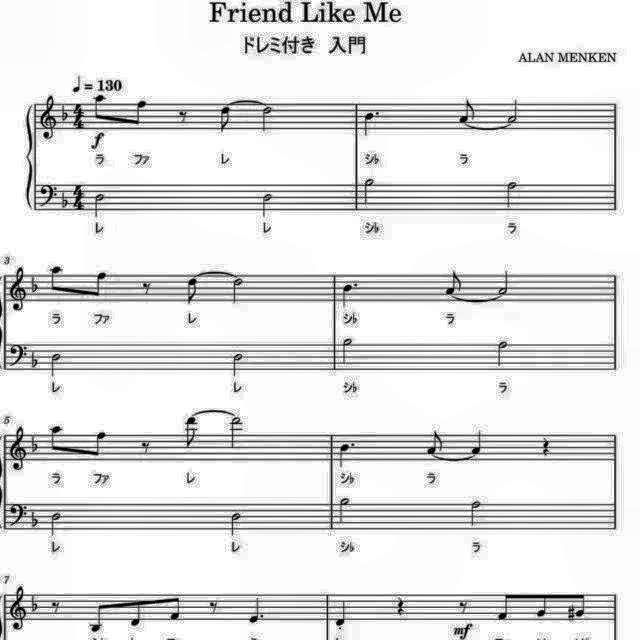Bass-clef: (7, 341, 30, 371), (7, 501, 30, 531), (36, 180, 59, 208)
Bemol: (28, 272, 42, 300), (30, 592, 42, 616), (60, 189, 72, 211), (30, 434, 42, 456), (30, 507, 42, 529), (30, 349, 42, 371), (60, 101, 72, 122)
Eighth-note: (86, 599, 110, 637), (85, 268, 109, 302), (85, 425, 109, 459), (180, 412, 200, 452), (127, 598, 149, 632), (47, 262, 69, 296), (47, 422, 69, 456), (129, 95, 151, 128), (442, 267, 466, 297), (494, 588, 514, 624), (166, 592, 187, 626), (422, 428, 446, 457), (182, 274, 202, 308), (454, 96, 478, 124), (534, 592, 554, 624), (216, 101, 234, 135), (91, 92, 109, 124), (572, 589, 588, 619)
Eighth-rest: (137, 277, 155, 299), (137, 438, 155, 459), (174, 106, 192, 126), (205, 596, 222, 616), (47, 598, 63, 618), (456, 597, 472, 617)
Half-note: (227, 413, 246, 451), (501, 178, 521, 212), (339, 336, 359, 370), (492, 336, 512, 369), (336, 496, 356, 528), (228, 274, 248, 306), (468, 496, 488, 528), (256, 102, 276, 134), (359, 174, 377, 208), (494, 267, 514, 297), (227, 349, 247, 379), (502, 96, 522, 124), (46, 509, 64, 539), (46, 349, 64, 379), (226, 512, 244, 542), (260, 191, 278, 221), (92, 189, 108, 219)
Quarter-dot: (247, 595, 270, 629), (339, 278, 363, 310), (358, 108, 382, 140), (336, 440, 359, 470)
Quarter-note: (332, 598, 352, 632), (466, 429, 486, 458)
Quarter-rest: (536, 432, 554, 460), (392, 590, 408, 618)
Treble-clef: (36, 92, 59, 142), (5, 425, 27, 475), (6, 265, 28, 315), (6, 583, 28, 633)
